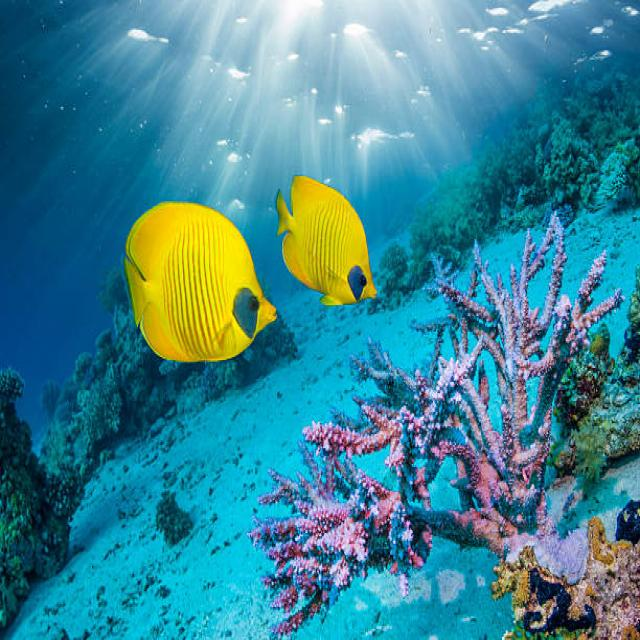ButterflyFish: (126, 202, 275, 359), (276, 169, 375, 307)
